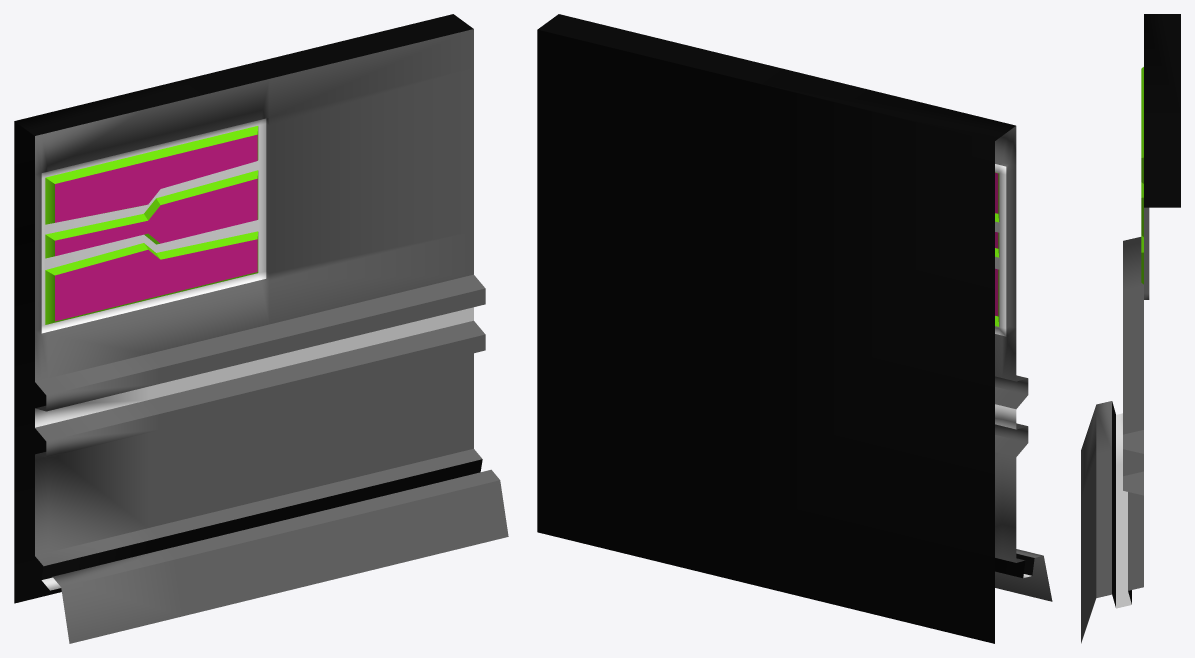
Rendered from Wall_Base_Test_3.fbx.
The picture shows the model from 3 angles, left to right: view 1: azimuth 30°, elevation 25°; view 2: azimuth 150°, elevation 25°; view 3: azimuth 270°, elevation 25°; orthographic projection. The views are drawn at different scales.
Parts seen in each view (by area): view 1: Wall.002; view 2: Wall.002; view 3: Wall.002.
Boxes of the visible parts, x1,y1,x2,y2 form: Wall.002: [14, 14, 508, 643]; Wall.002: [537, 14, 1052, 643]; Wall.002: [1081, 14, 1180, 643].
Bounding box in the file's own units: 248 × 260 × 53.91.
